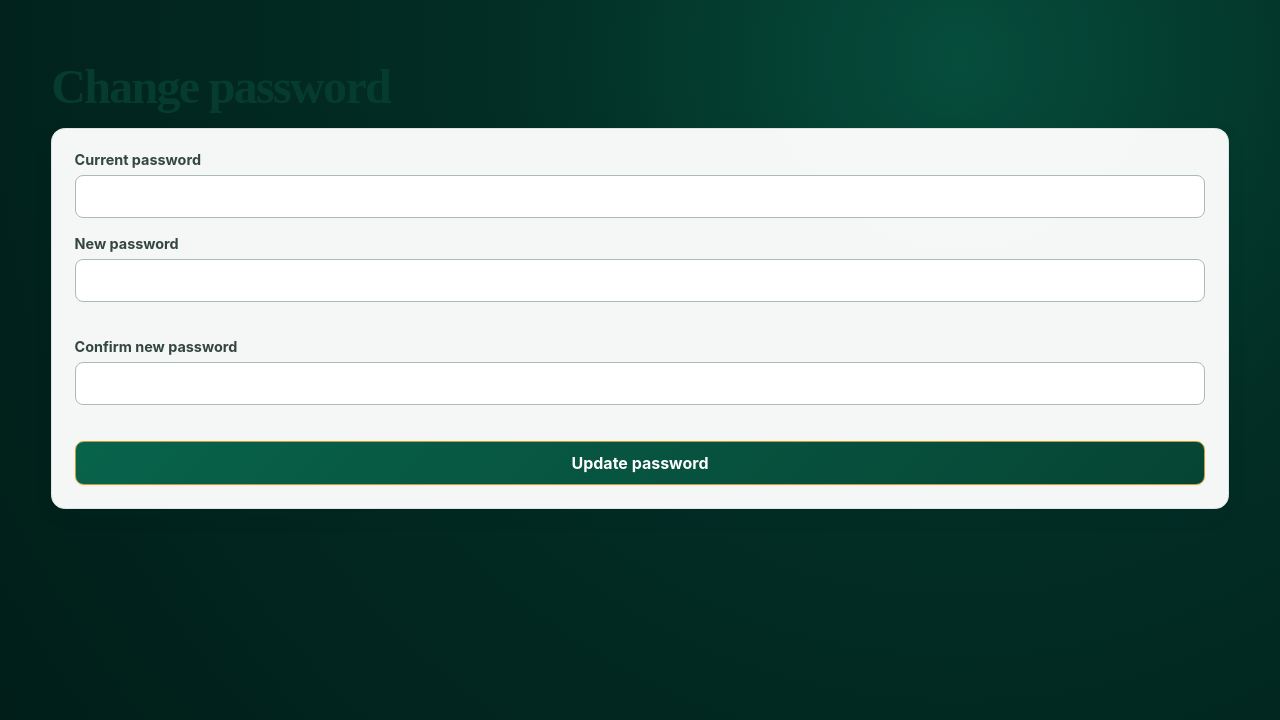
Test: authentication lifecycle › forced password change surfaces controlled backend errors
The image size is (1280, 720).
Type "WrongSecure1!" into the password field labelled "Current password" at (640, 197), box top-left (75, 175), bottom-right (1205, 218)
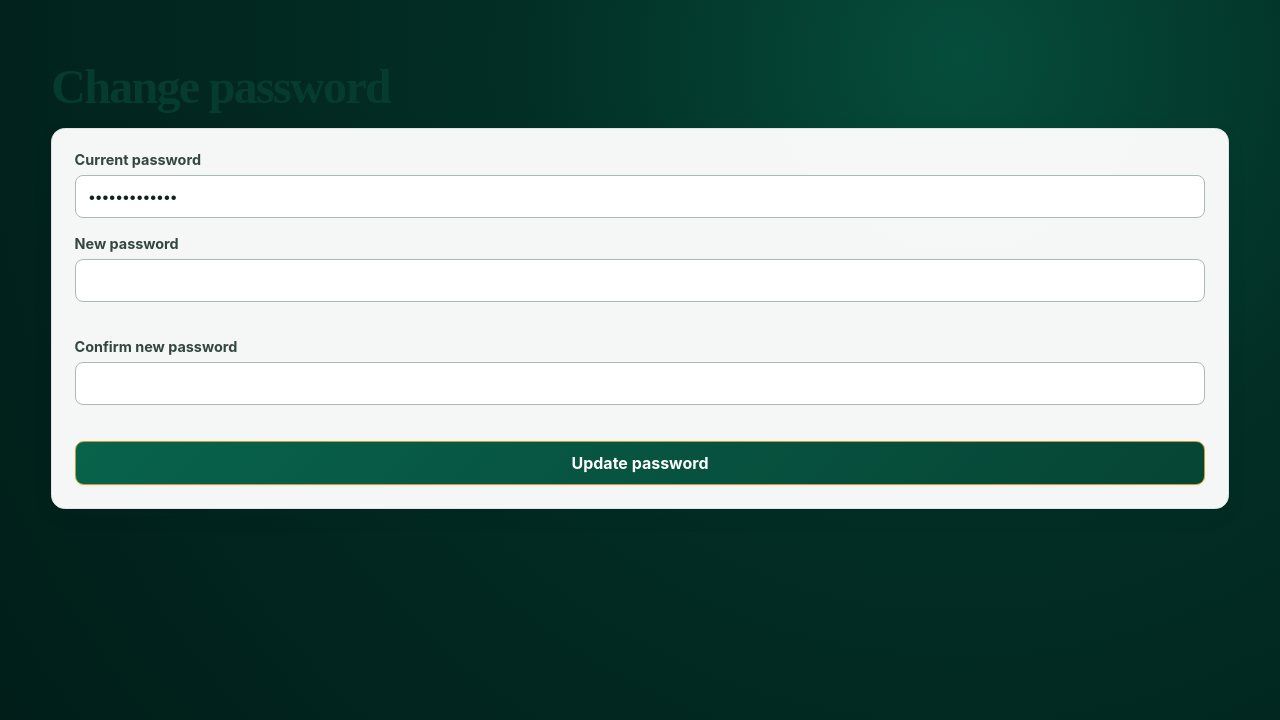
Type "NewSecurePass1!" into the password field labelled "New password" at (640, 281), box top-left (75, 259), bottom-right (1205, 302)
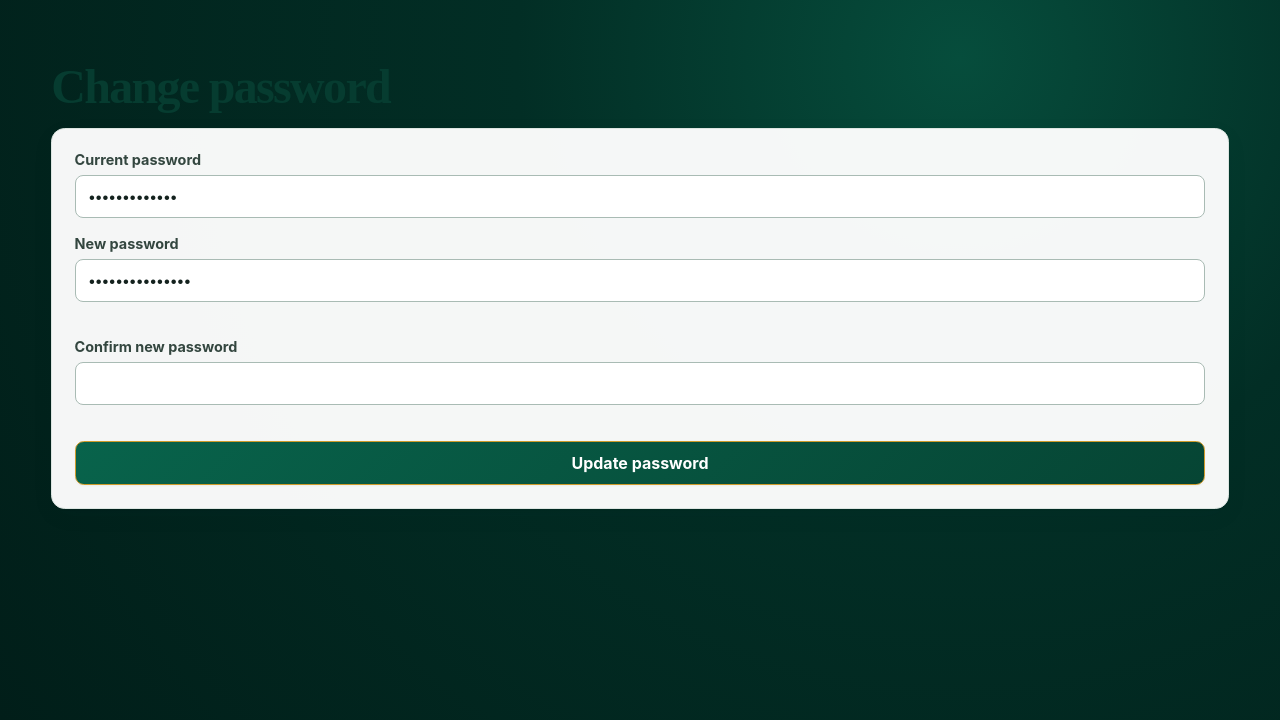
Type "NewSecurePass1!" into the password field labelled "Confirm new password" at (640, 384), box top-left (75, 362), bottom-right (1205, 405)
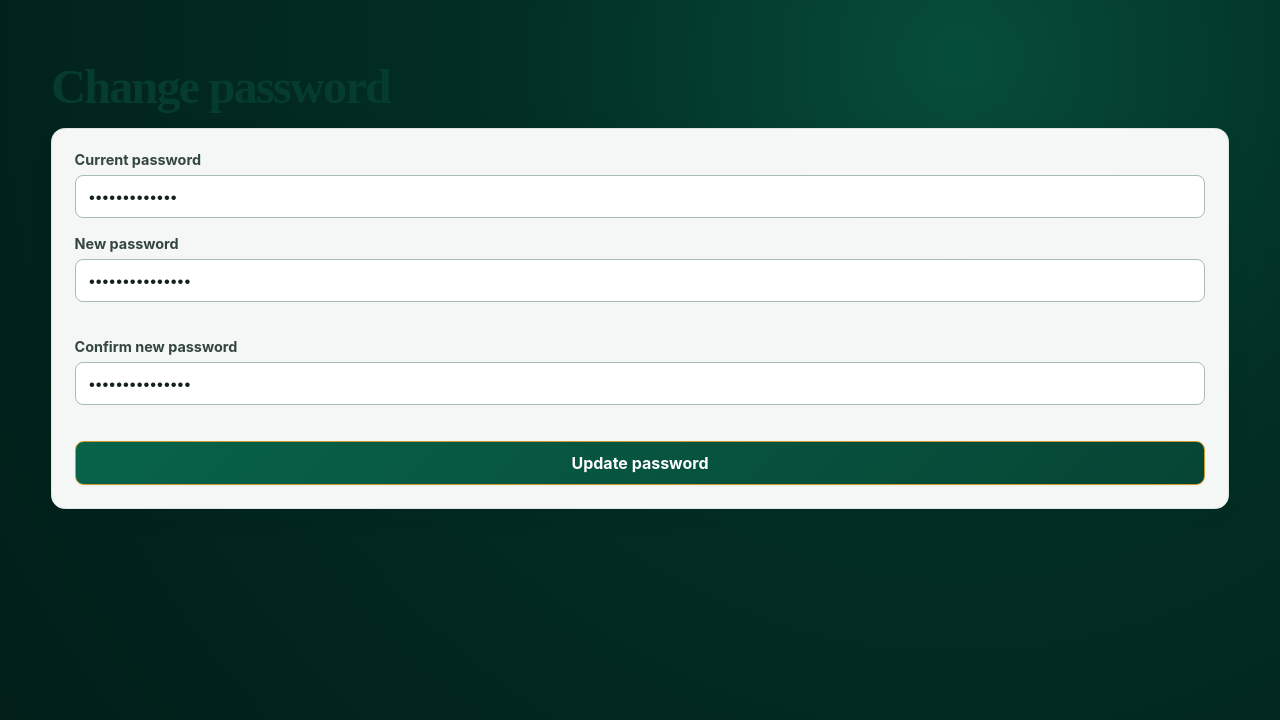
Click the button "Update password" at (640, 463), box top-left (75, 441), bottom-right (1205, 485)
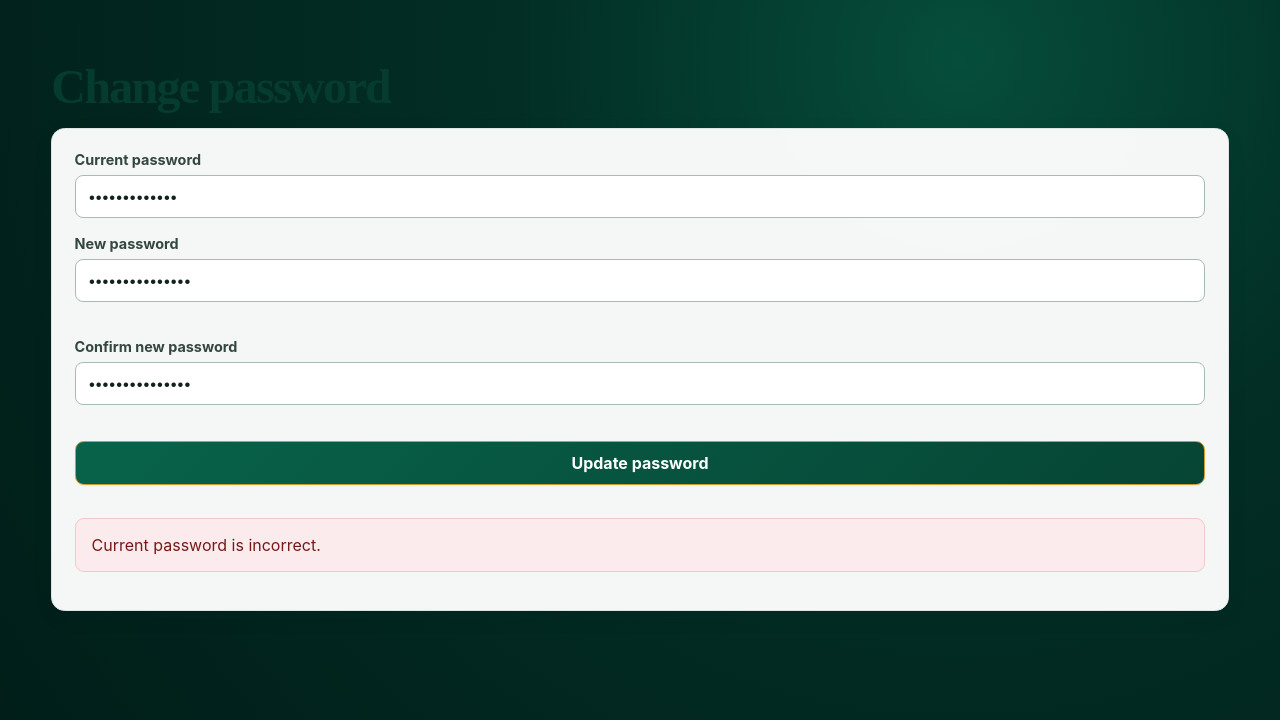
Check: the message reads "Current password is incorrect.", box top-left (92, 535), bottom-right (321, 555)
